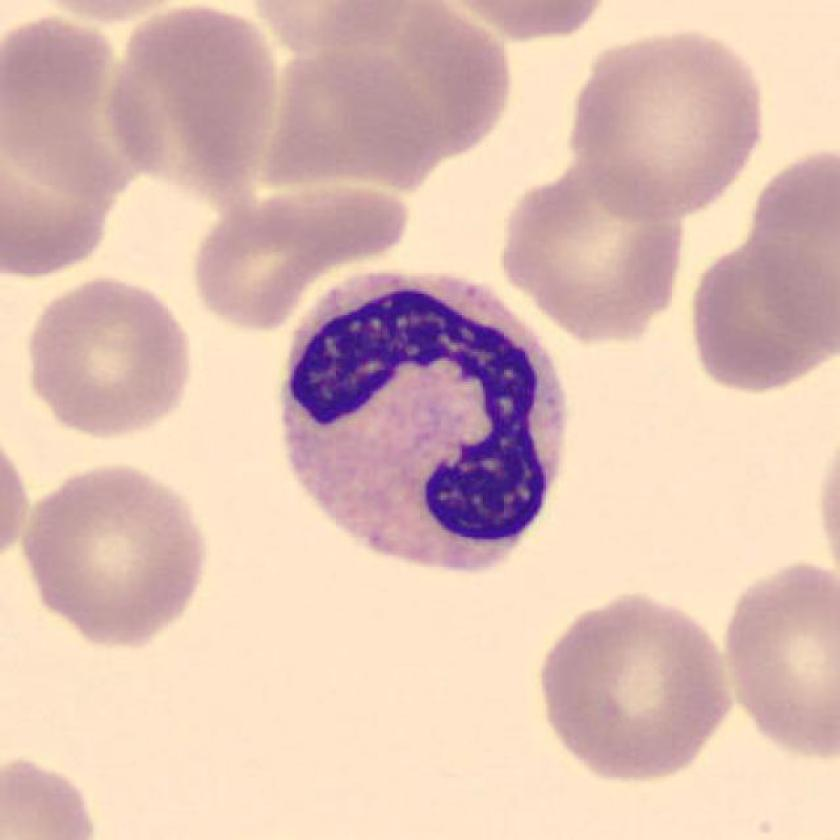neutrophil: (283, 273, 569, 572)
